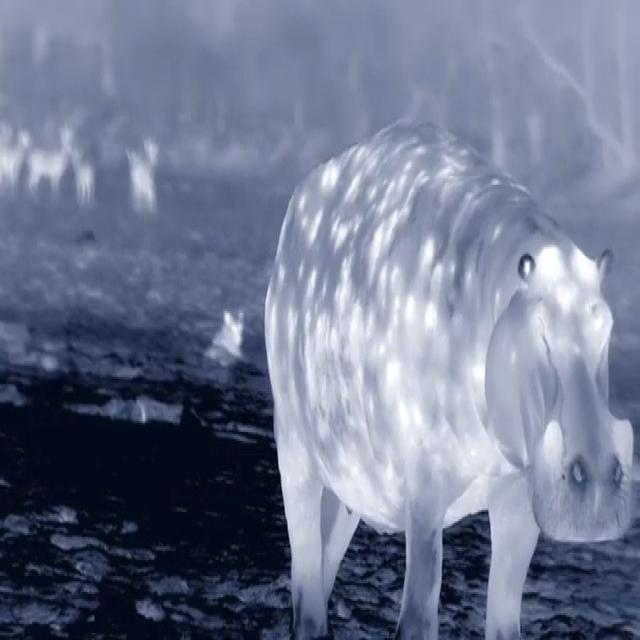animal: (246, 71, 640, 638)
